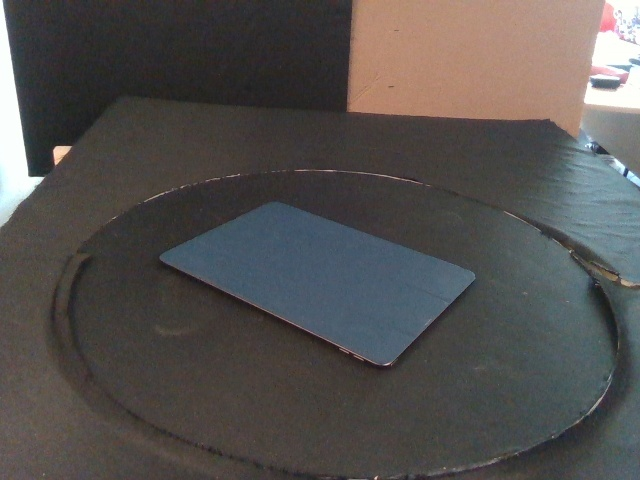laptop: (157, 199, 477, 370)
